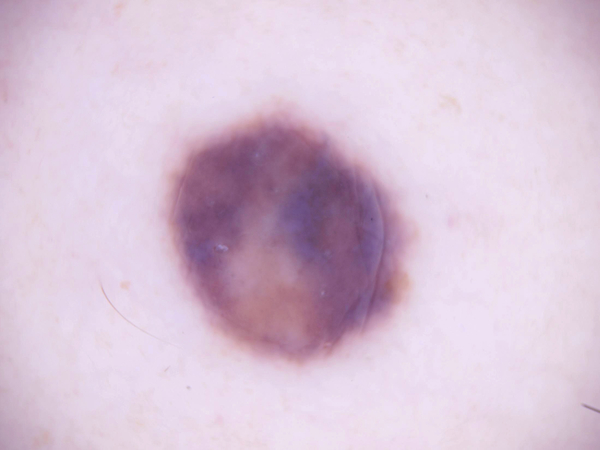Detected Lesion: (163, 103, 417, 373)
